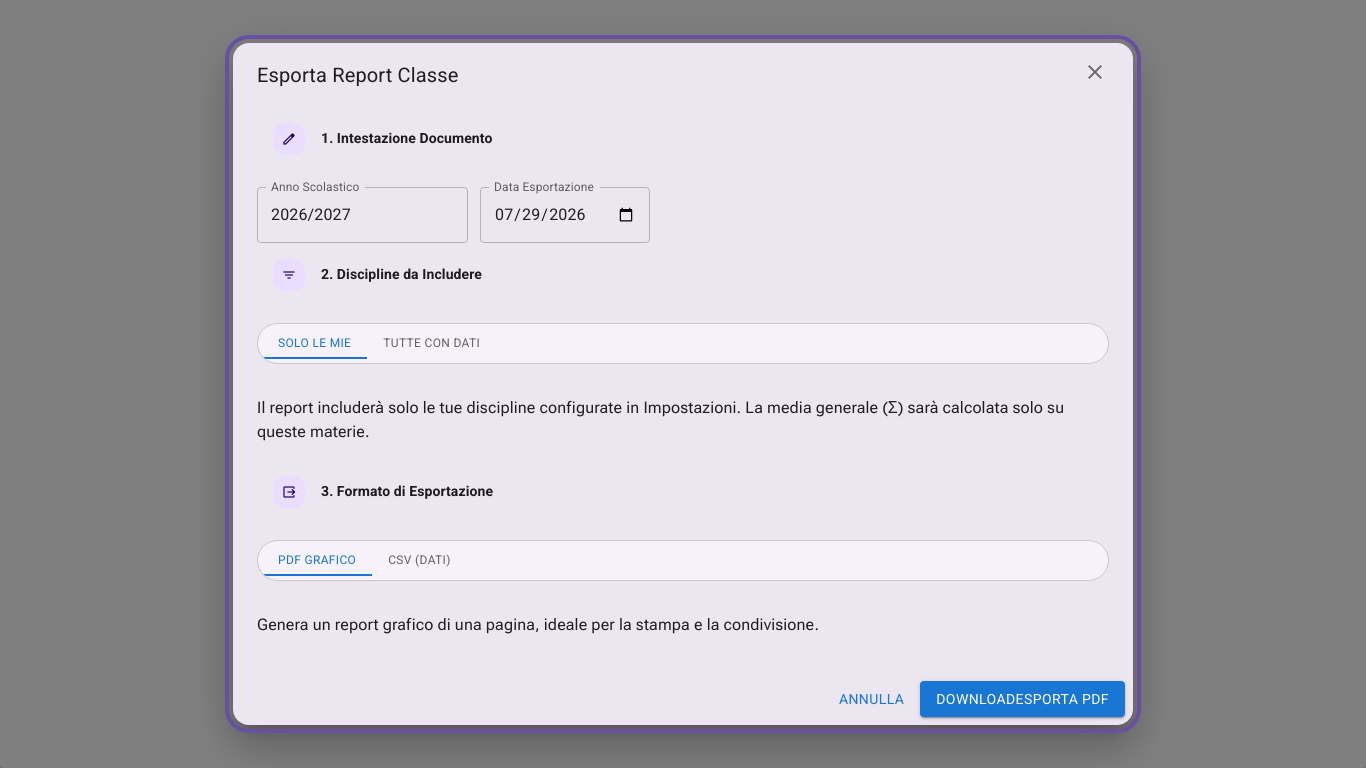
Test case: ExportModal › dovrebbe permettere selezione materie
The width and height of the screenshot is (1366, 768).
Cambia scope da "Solo le mie" a "Tutte con dati"
Click the tab with test id "tab-all". click: click(432, 343)
box: [367,328,496,359]
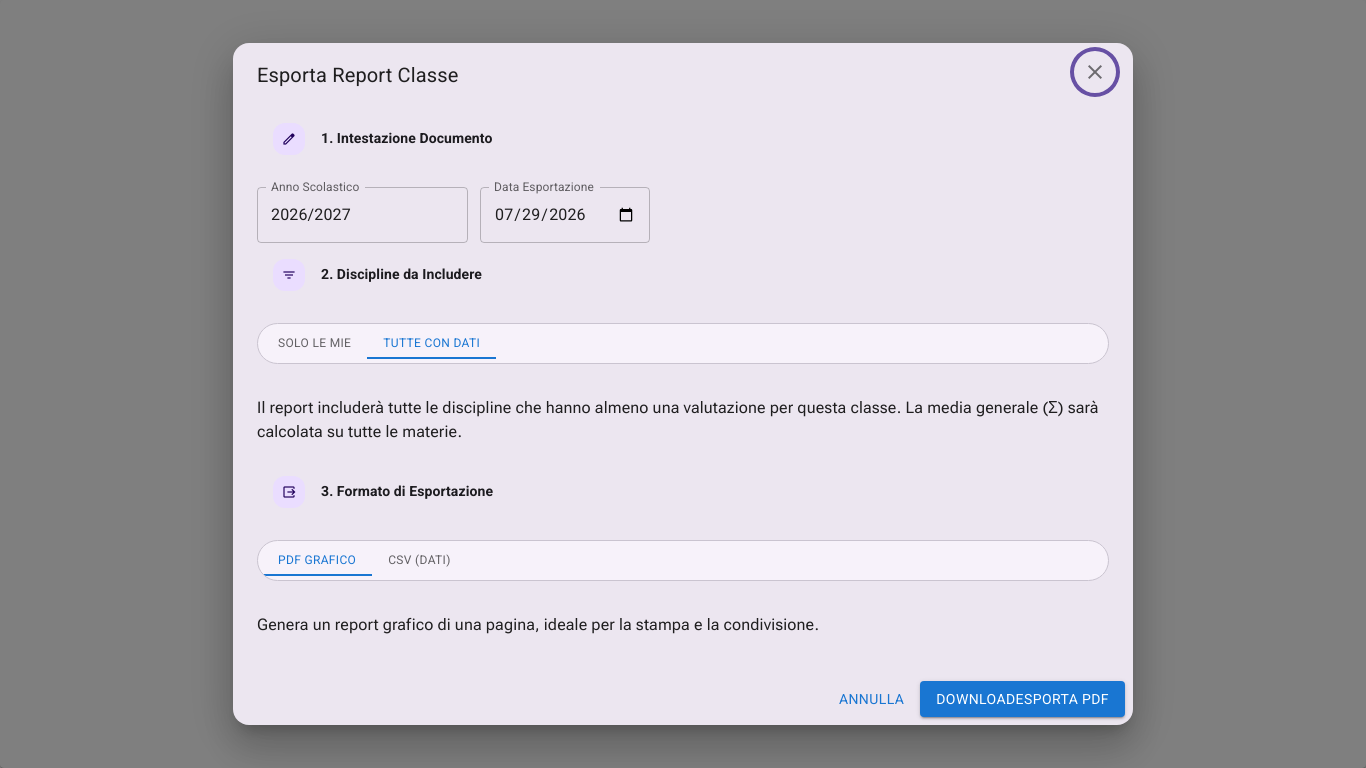
Expected: the text "tutte le discipline" is shown, [257,398,1099,441]
